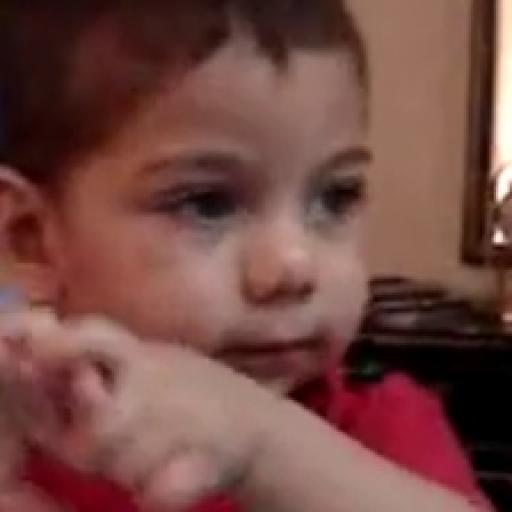Autism: (31, 2, 429, 438)
